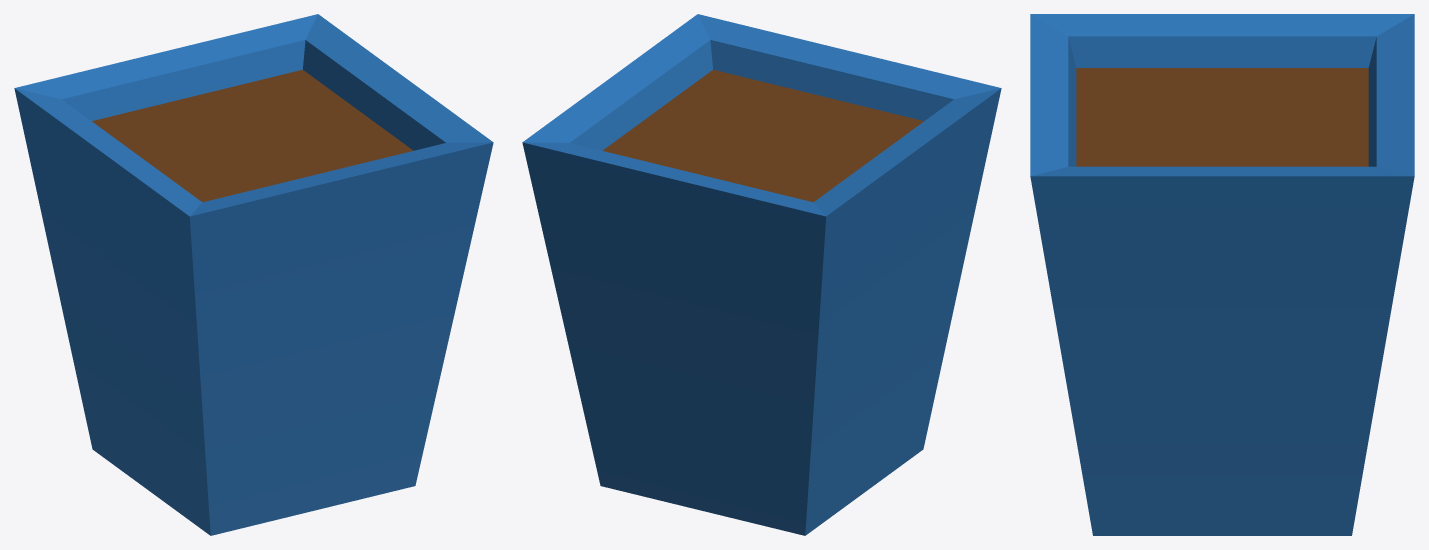
The model's file is PlantPot_4_D.fbx.
The picture shows the model from 3 angles, left to right: view 1: azimuth 30°, elevation 25°; view 2: azimuth 150°, elevation 25°; view 3: azimuth 270°, elevation 25°; orthographic projection. The views are drawn at different scales.
Visible parts, largest first — view 1: PlantPot_4_D; view 2: PlantPot_4_D; view 3: PlantPot_4_D.
Boxes of the visible parts, bbox=[...] form: PlantPot_4_D: bbox=[14, 14, 493, 535]; PlantPot_4_D: bbox=[522, 14, 1001, 535]; PlantPot_4_D: bbox=[1030, 14, 1414, 535].
Size of the model in its own units: 21.63 by 23.98 by 21.63.
